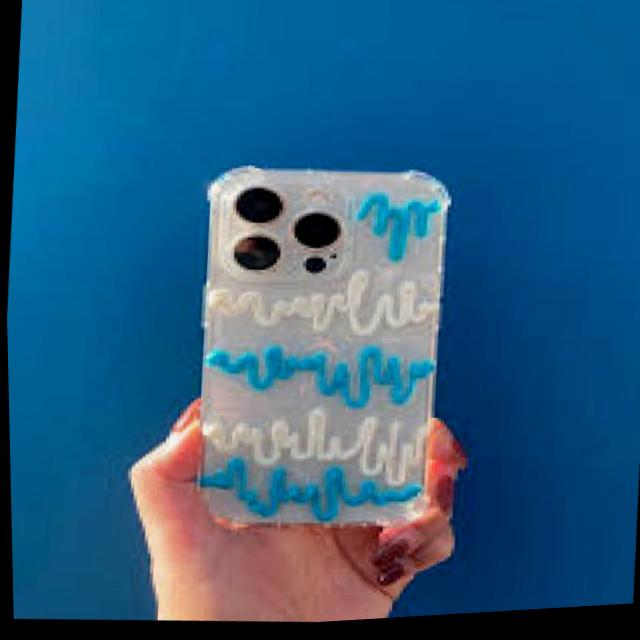Smartphone: (191, 166, 459, 544)
